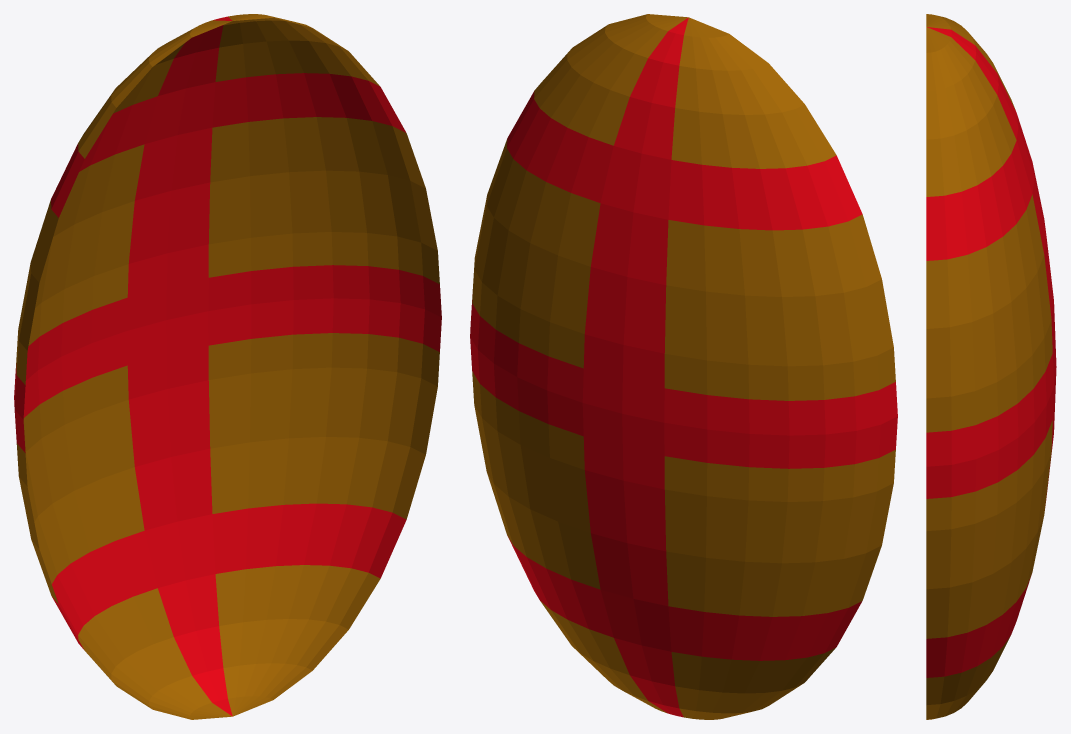
The model's file is escudo.fbx.
The picture shows the model from 3 angles, left to right: view 1: azimuth 30°, elevation 25°; view 2: azimuth 150°, elevation 25°; view 3: azimuth 270°, elevation 25°; orthographic projection. The views are drawn at different scales.
Parts seen in each view (by area): view 1: Esfera; view 2: Esfera; view 3: Esfera.
Boxes of the visible parts, <box> form: Esfera: <box>14,14,441,719</box>; Esfera: <box>470,14,897,719</box>; Esfera: <box>926,14,1056,719</box>.
Size of the model in its own units: 126 by 200 by 34.66.
